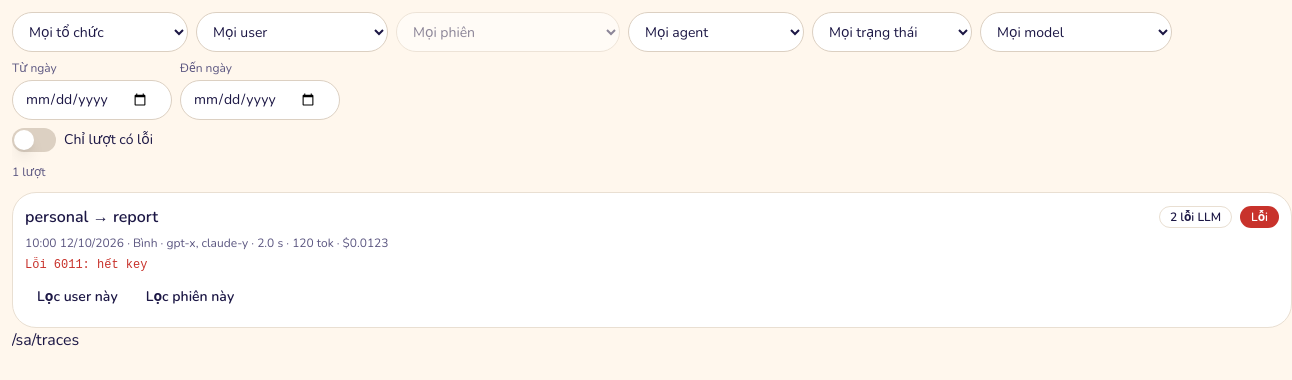
TracesPage › nút lọc nhanh trên một lượt: 'Lọc user này' và 'Lọc phiên này'; 'Bỏ lọc' xoá hết
The width and height of the screenshot is (1292, 380).
Click the button with test id "trace-by-user-r2". click: (77, 297)
box: x1=25 y1=279 x2=130 y2=315
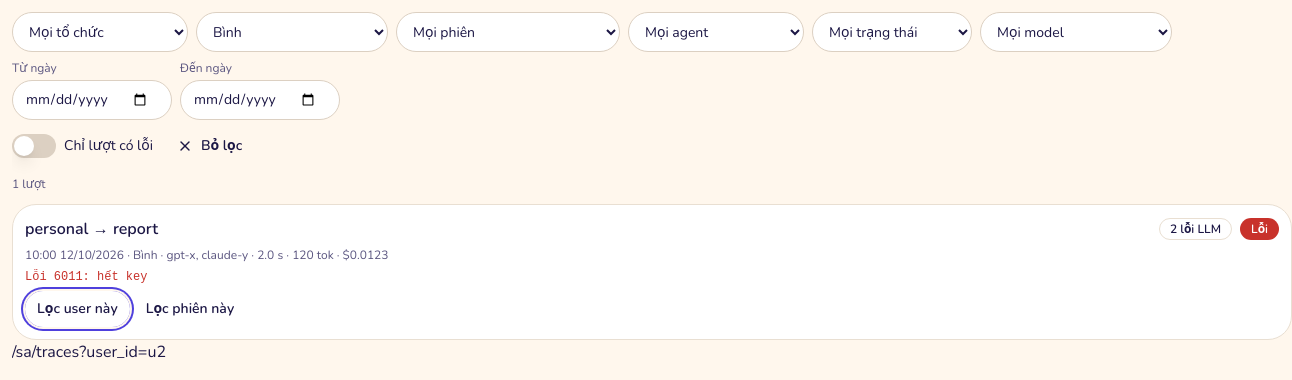
Expected: the text with test id "where" reads "/sa/traces?user_id=u2", x1=12 y1=341 x2=166 y2=363
Click the button with test id "trace-by-session-r2". click: (190, 309)
box: x1=134 y1=291 x2=246 y2=327
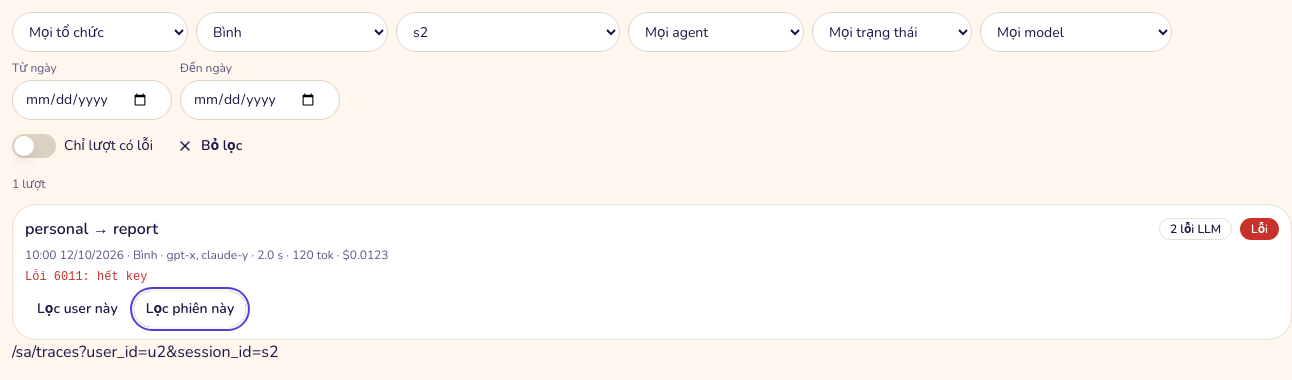
Expected: the text with test id "where" shows "user_id=u2", x1=12 y1=341 x2=278 y2=363
Expected: the text with test id "where" shows "session_id=s2", x1=12 y1=341 x2=278 y2=363
Click the button with test id "trace-clear". click: (210, 146)
box: x1=165 y1=128 x2=254 y2=164
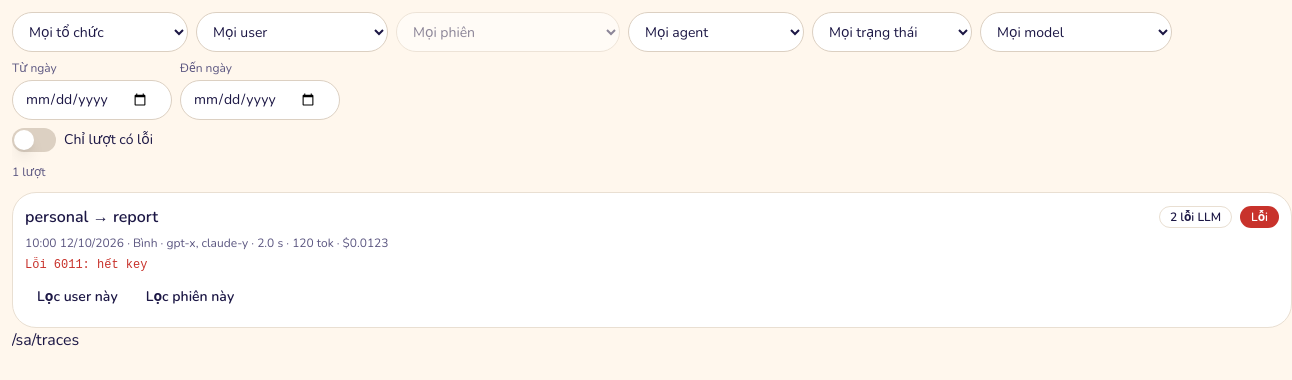
Expected: the text with test id "where" reads "/sa/traces", x1=12 y1=329 x2=79 y2=351
Expected: the button with test id "trace-clear" is gone
